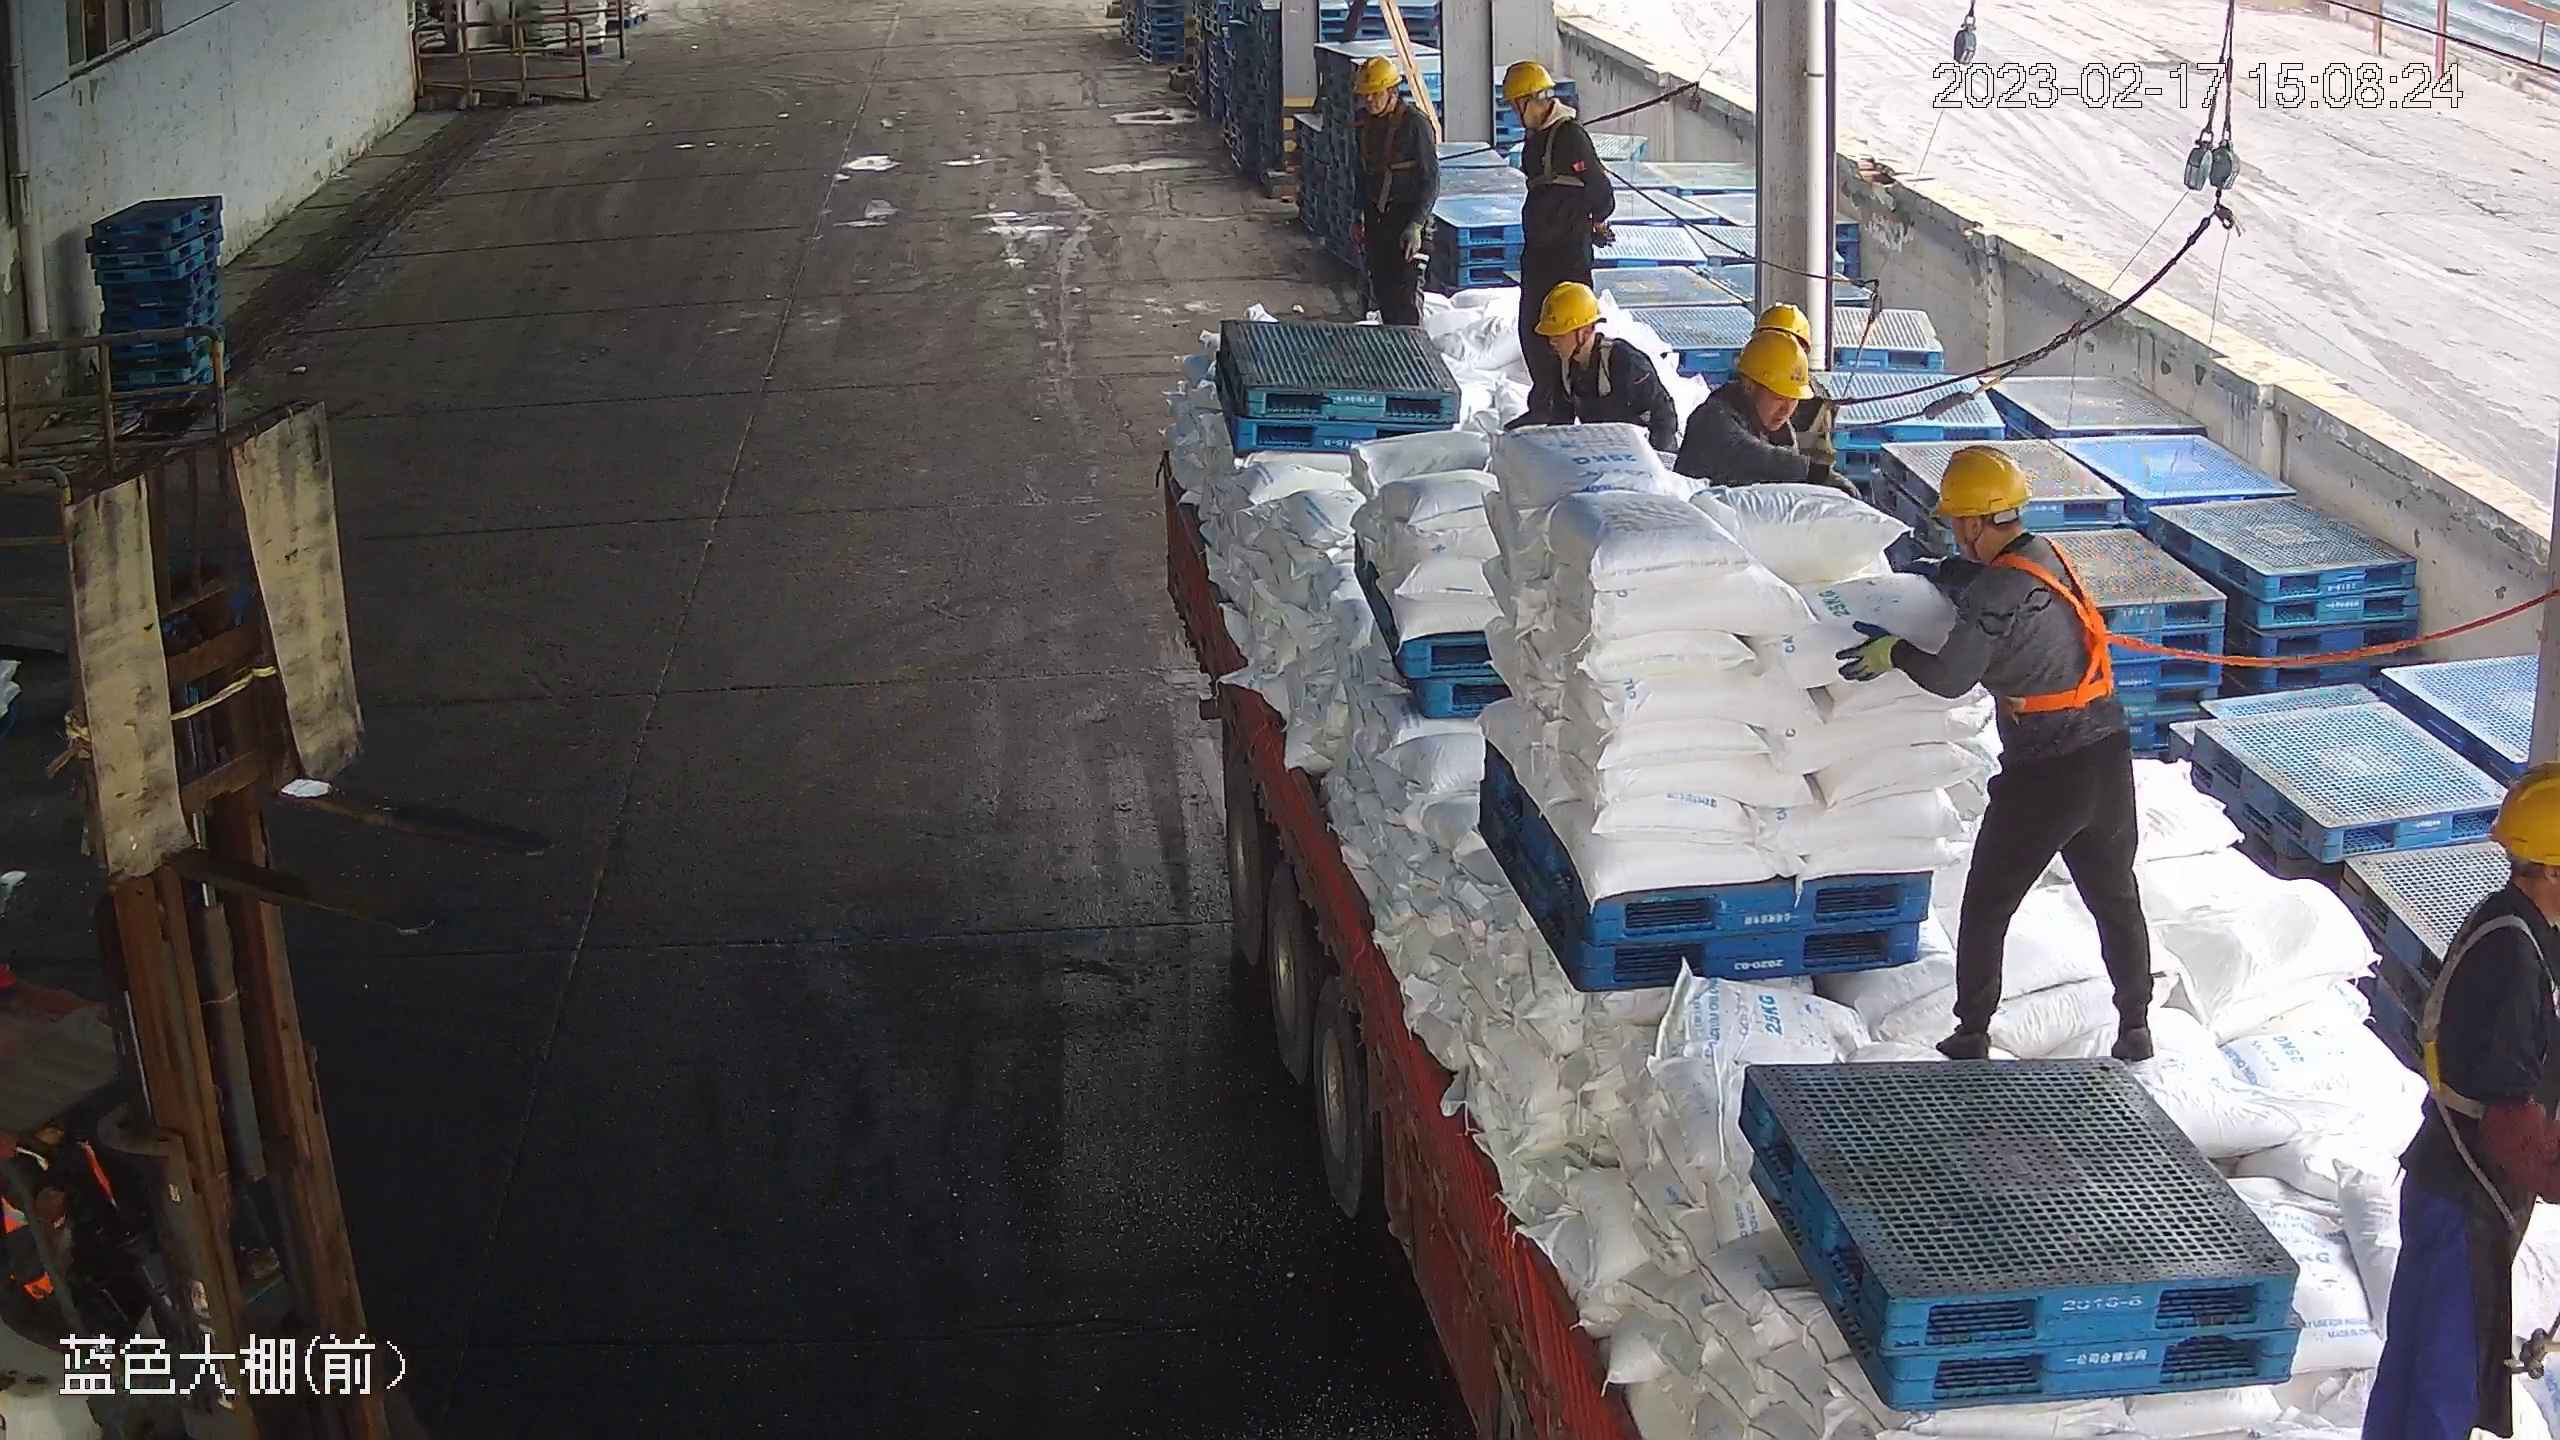belt: (2395, 894, 2560, 1137), (1991, 532, 2138, 719), (1515, 117, 1589, 193), (1549, 339, 1639, 399), (1351, 111, 1430, 176), (1796, 392, 1845, 458)
head: (1900, 447, 2099, 646), (2433, 760, 2560, 1052), (1688, 330, 1817, 467), (1529, 281, 1648, 404), (1500, 60, 1601, 169), (1352, 56, 1433, 156)
helmet: (1928, 446, 2033, 520), (2492, 764, 2560, 870), (1737, 330, 1813, 402), (1531, 283, 1606, 336), (1754, 303, 1814, 353), (1499, 61, 1558, 105), (1353, 56, 1401, 92)
people: (1830, 445, 2157, 1074), (2359, 761, 2560, 1440), (1496, 56, 1615, 428), (1346, 52, 1438, 331)
truck: (1154, 389, 2560, 1440)
